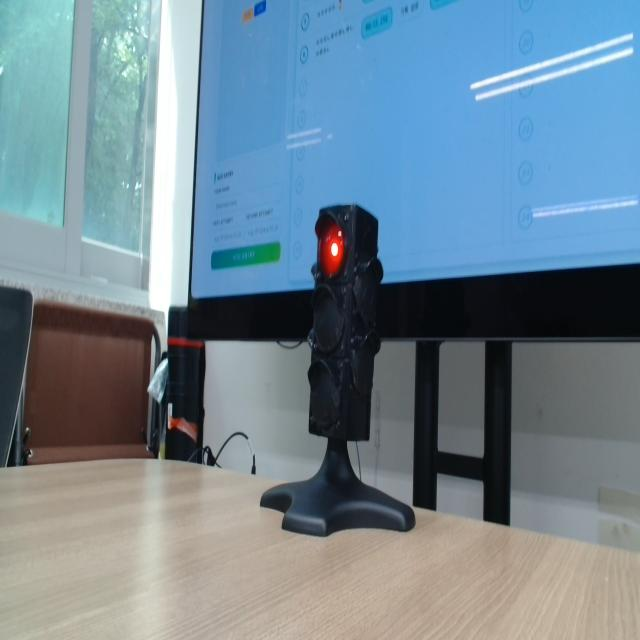red_light: (319, 220, 345, 277)
